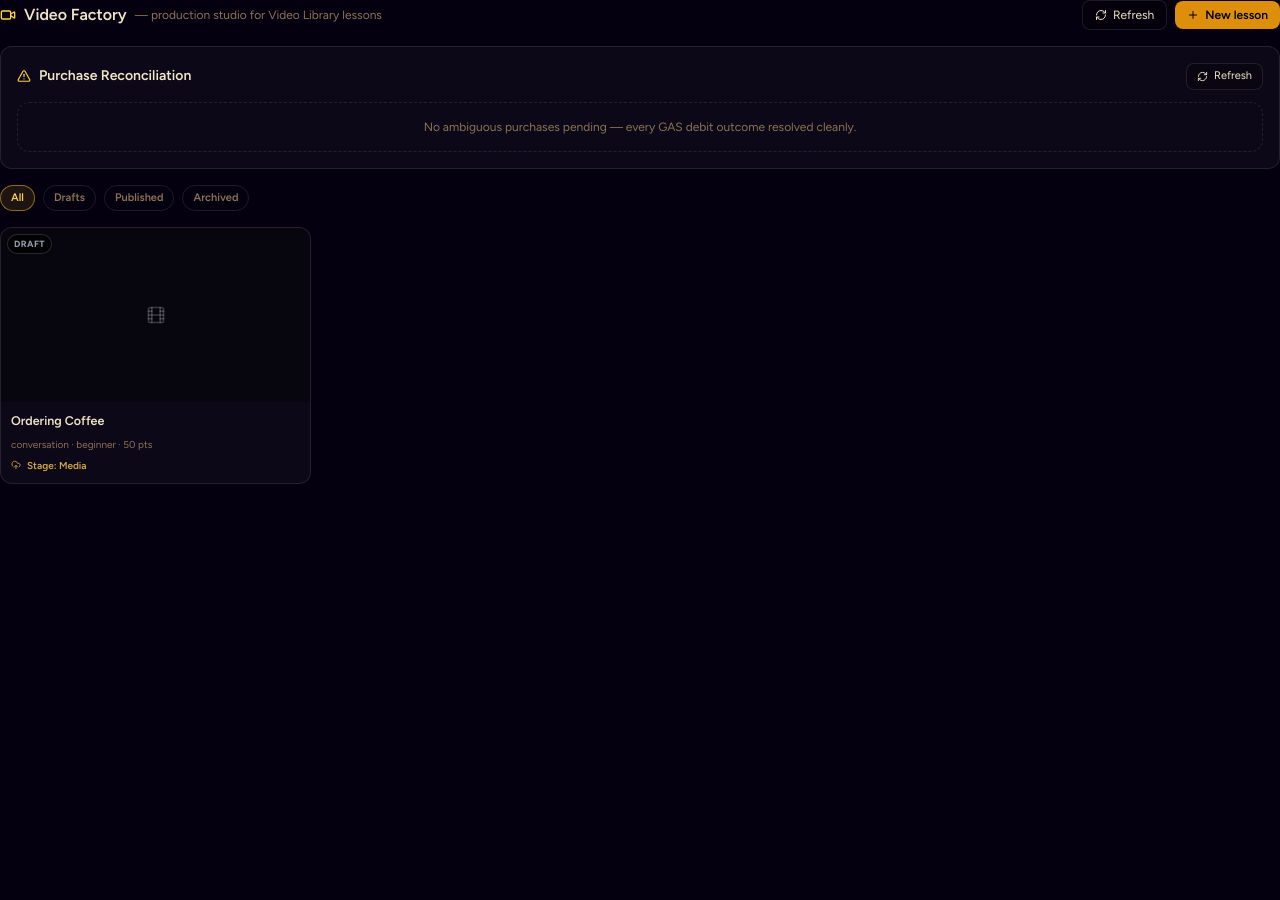
Test case: the Voice Production stage is absent from the rail while the platform reports it not visible
This screenshot has width=1280, height=900.
Click the button with test id "video-factory-lesson-vid_1".
click(156, 355)  # box [0, 227, 311, 484]
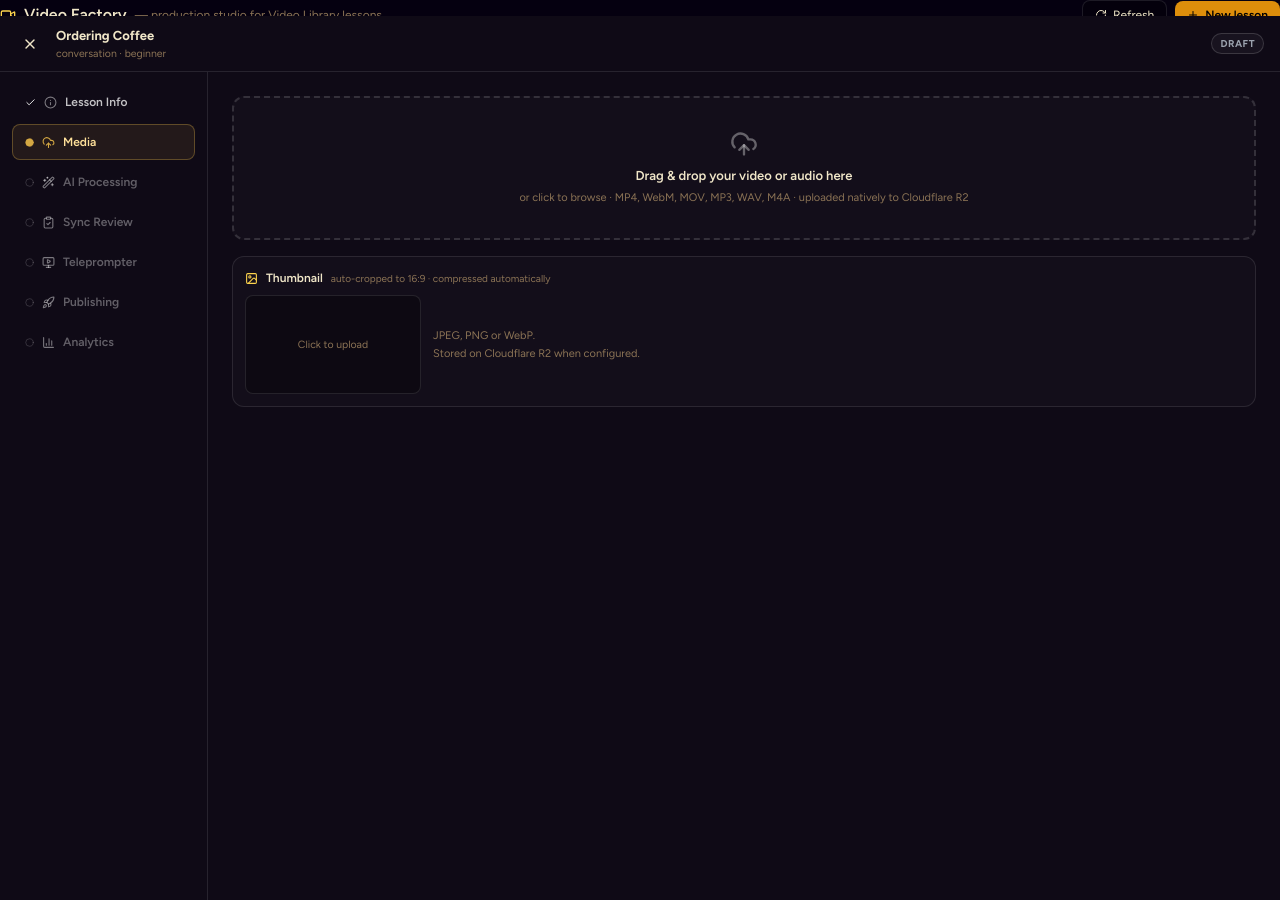
Check: the element with test id "production-studio" is shown
